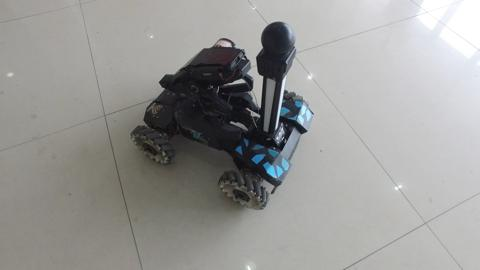chariot: (120, 29, 311, 219)
